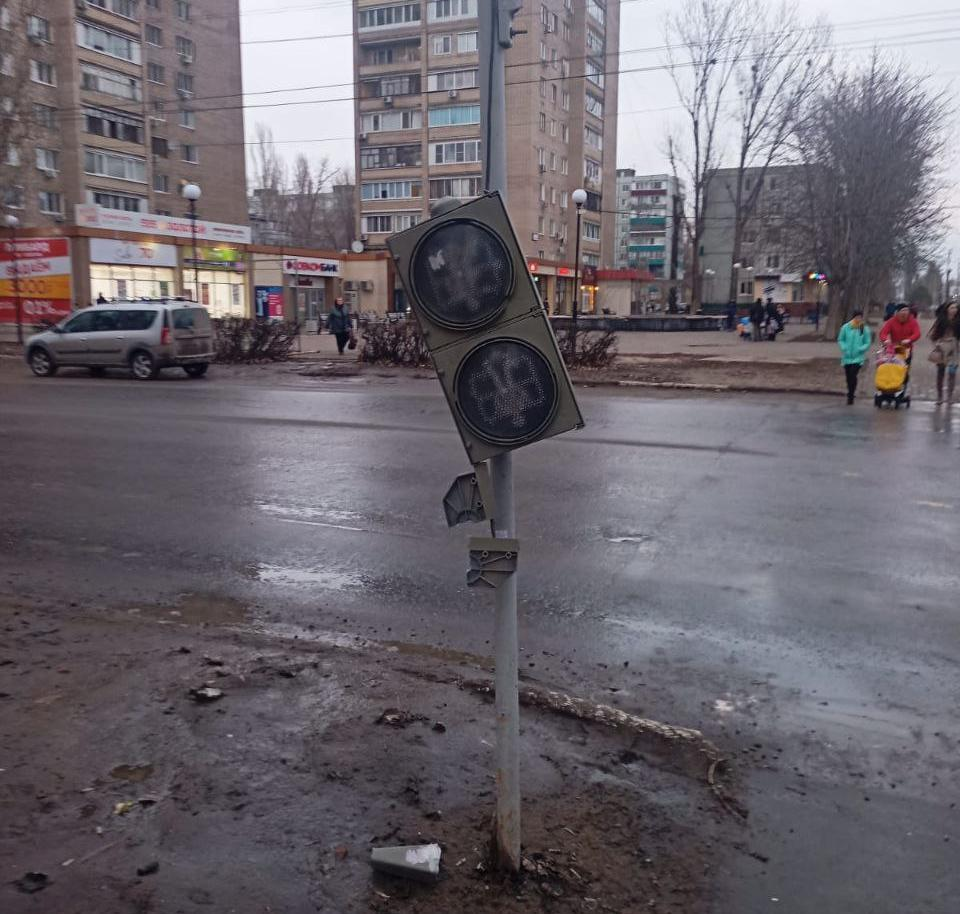off traffic light: (409, 192, 579, 464)
